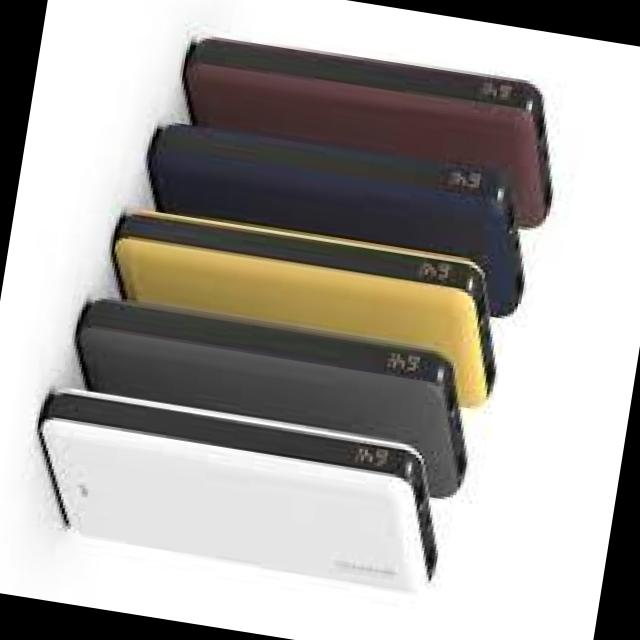power_bank: (14, 380, 462, 598), (96, 196, 520, 418), (128, 105, 547, 329), (58, 293, 488, 507), (165, 21, 577, 237)
